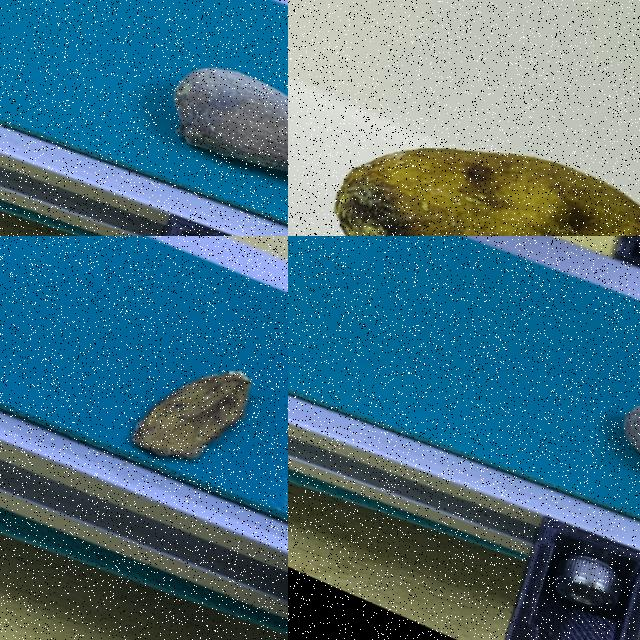Agglomerated_cocoabeans: (512, 320, 639, 577)
Fine_cocoabeans: (288, 42, 639, 235), (94, 7, 287, 235)
Flat_cocoabeans: (42, 295, 287, 521)
